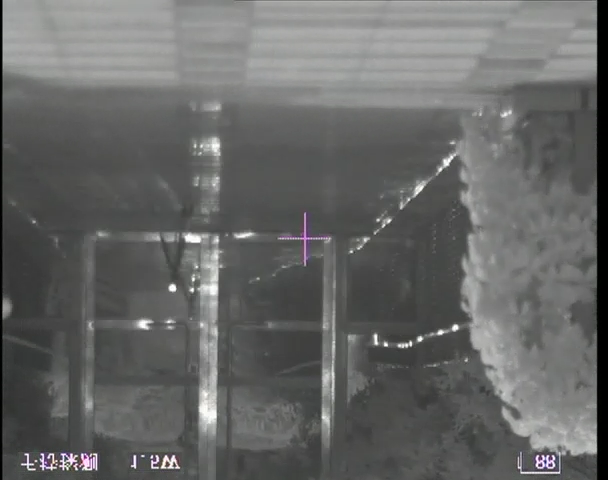my: (167, 282, 178, 294)
